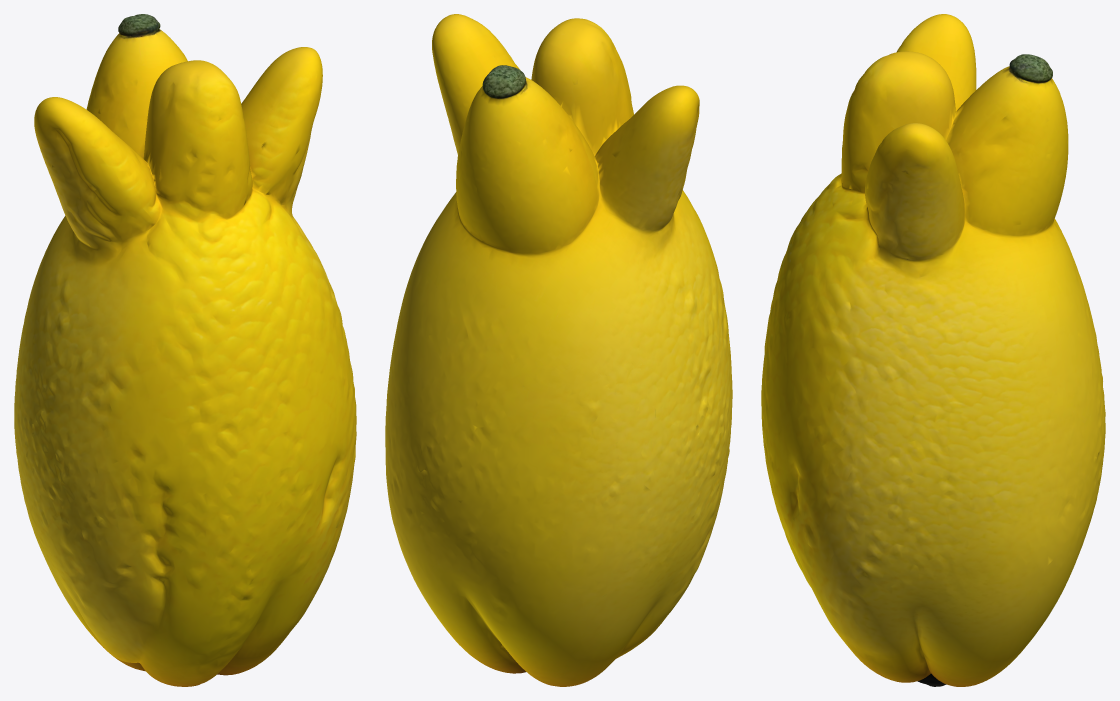
Rendered from foshou.glb.
3 renders of one model, left to right at view 1: azimuth 30°, elevation 25°; view 2: azimuth 150°, elevation 25°; view 3: azimuth 270°, elevation 25°, orthographic. The views are drawn at different scales.
Visible parts, largest first — view 1: node_0; view 2: node_0; view 3: node_0.
Boxes of the visible parts, x1=… form: node_0: x1=14, y1=14, x2=356, y2=686; node_0: x1=385, y1=14, x2=732, y2=686; node_0: x1=761, y1=14, x2=1105, y2=686.
Bounding box in the file's own units: 0.5498 × 1.15 × 0.5772.
Materials: 1 (1 with a texture image).
